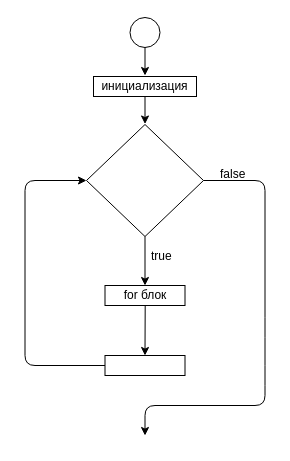
The diagram is 290 pixels wide and 461 high, and some of its shapes have lost their labels. Here are the shapes that lost their labels. From the top down, the centre of each, then its label:
[145,180]: for условие
[144,365]: инкремент
